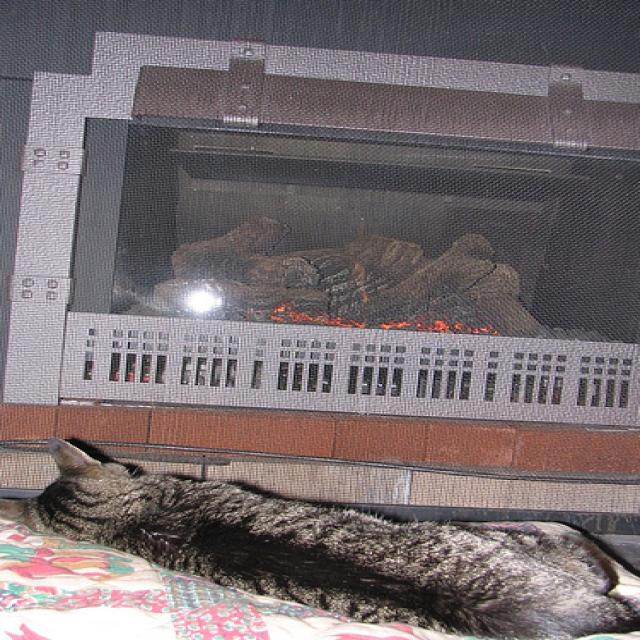cat: (1, 436, 639, 639)
